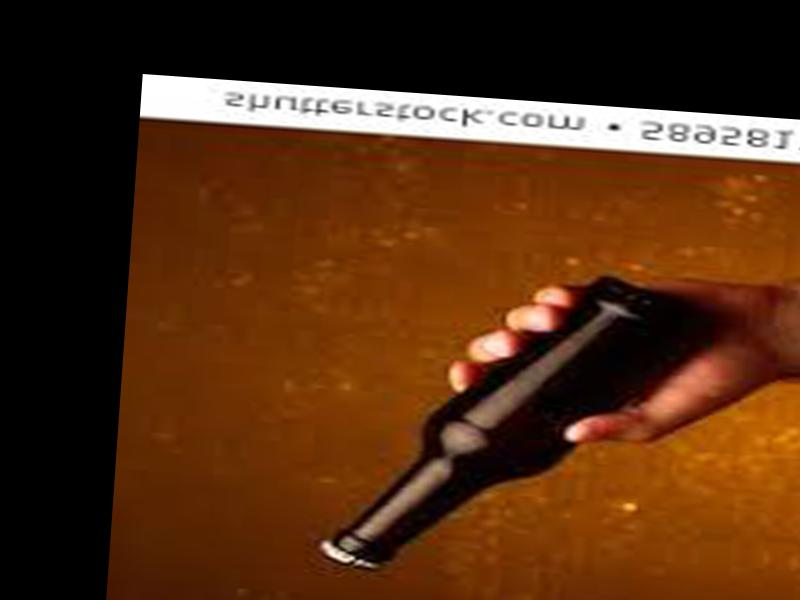Beer: (313, 257, 734, 595)
